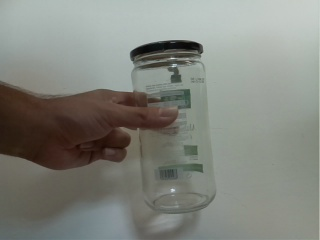pote cristal: (127, 38, 222, 217)
